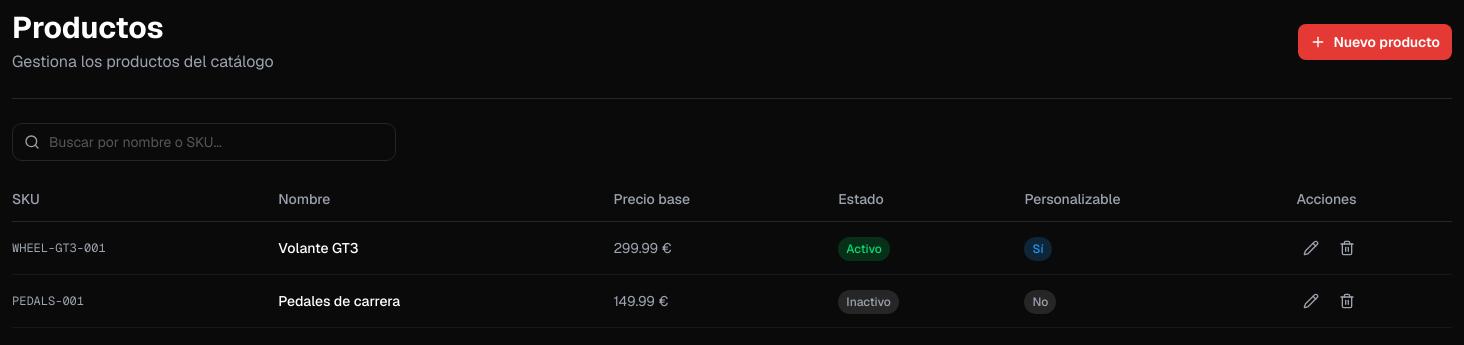
Test: ProductsContent › eliminar › al hacer clic en eliminar muestra confirmación inline
Expected: the text "Volante GT3" is shown, [278, 222, 614, 274]
Click the button titled "Eliminar" in the row of "WHEEL-GT3-001". click: {"x": 1346, "y": 248}
box: [1332, 234, 1360, 262]
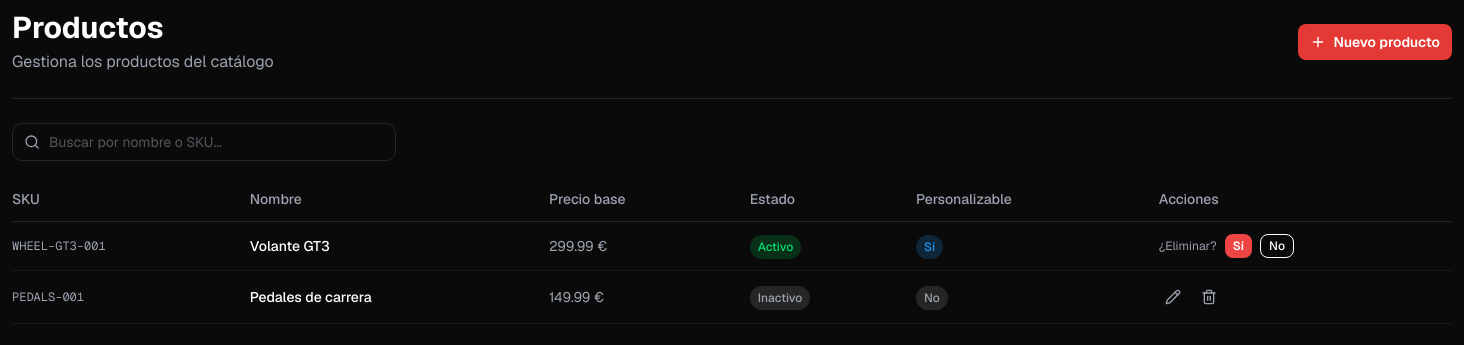
Expected: the text "¿Eliminar?" is shown, [1159, 238, 1217, 254]
